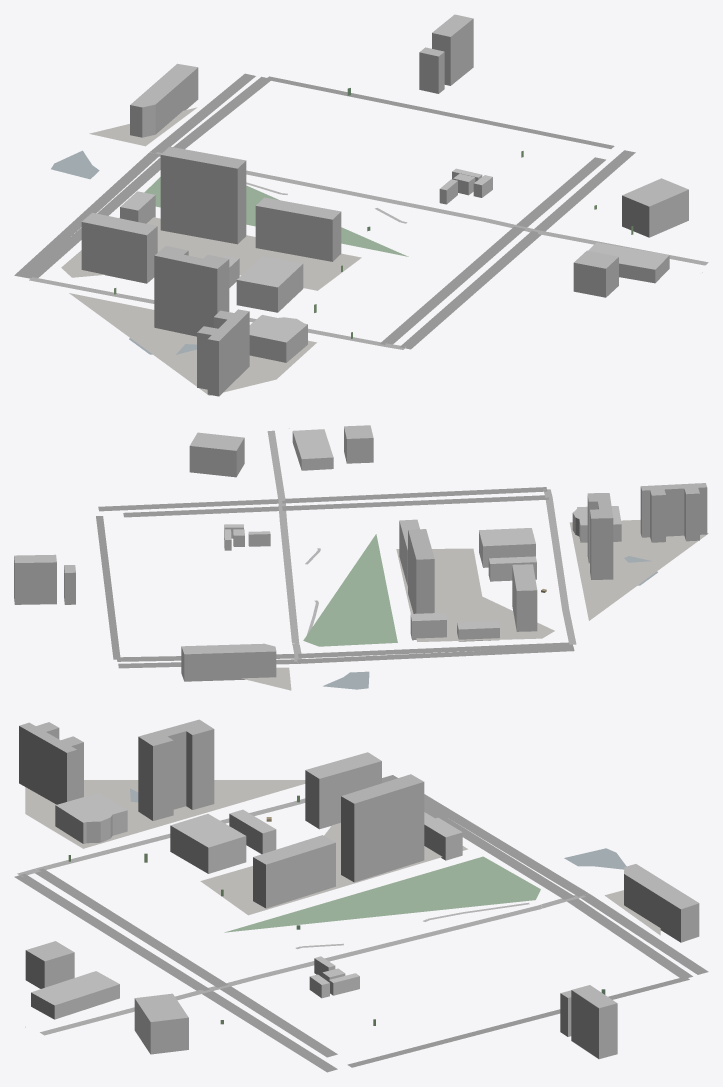
3 views of the same model, one above another, from view 1: azimuth 30°, elevation 25°; view 2: azimuth 150°, elevation 25°; view 3: azimuth 270°, elevation 25° (orthographic). The views are drawn at different scales.
Bounding box in the file's own units: 559 × 72.65 × 547.
